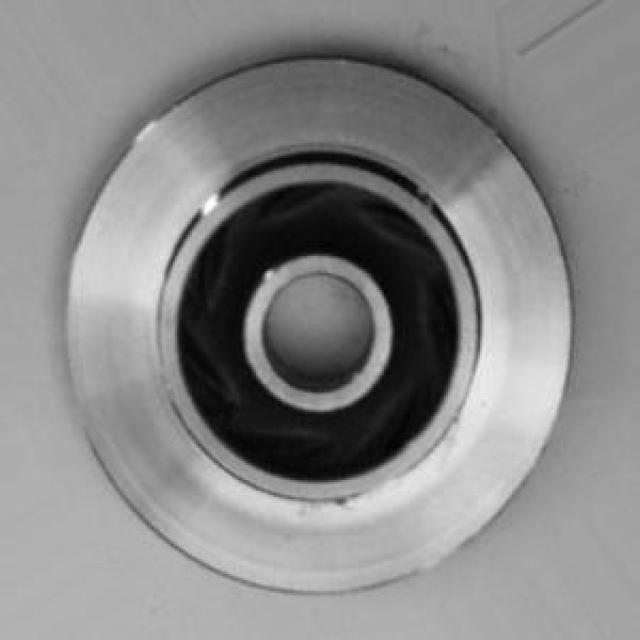Defect: (322, 491, 356, 513)
